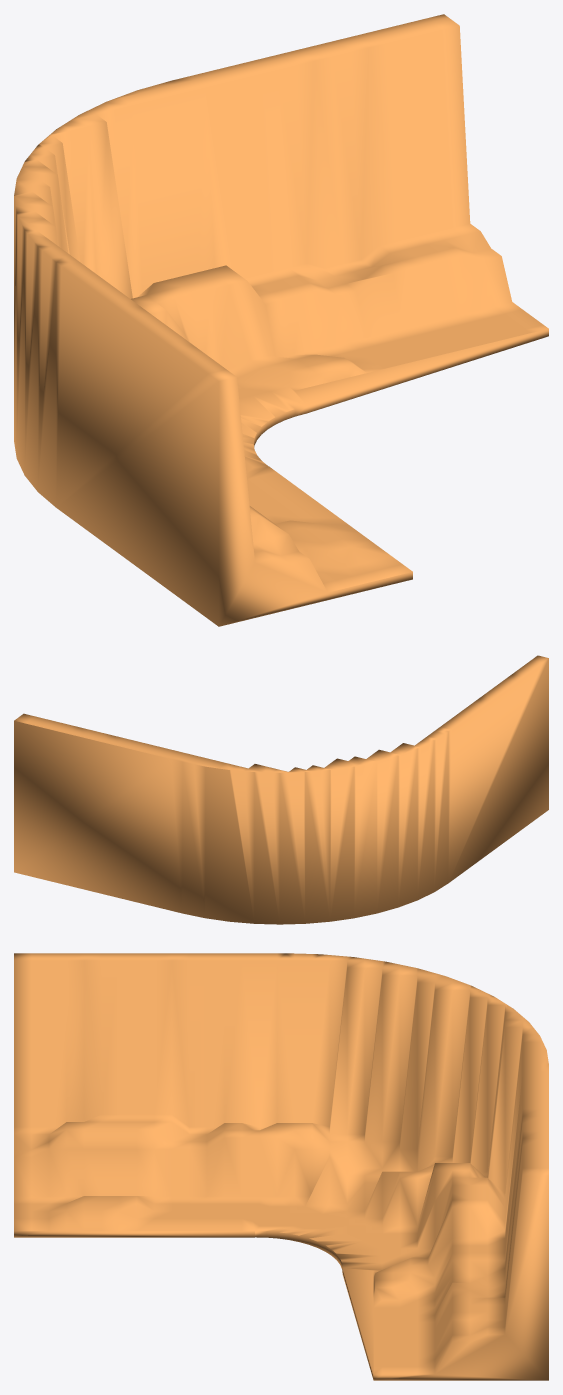
File: leftTurnout.fbx
The picture shows the model from 3 angles, top to bottom: view 1: azimuth 30°, elevation 25°; view 2: azimuth 150°, elevation 25°; view 3: azimuth 270°, elevation 25°; orthographic projection. The views are drawn at different scales.
Visible parts, largest first — view 1: Group1; view 2: Group1; view 3: Group1.
Part boxes in pixels (x1,y1,x2,y2): Group1: (14, 14, 548, 626); Group1: (14, 655, 548, 924); Group1: (14, 953, 548, 1380).
Bounding box in the file's own units: 3000 × 1290 × 3050.
